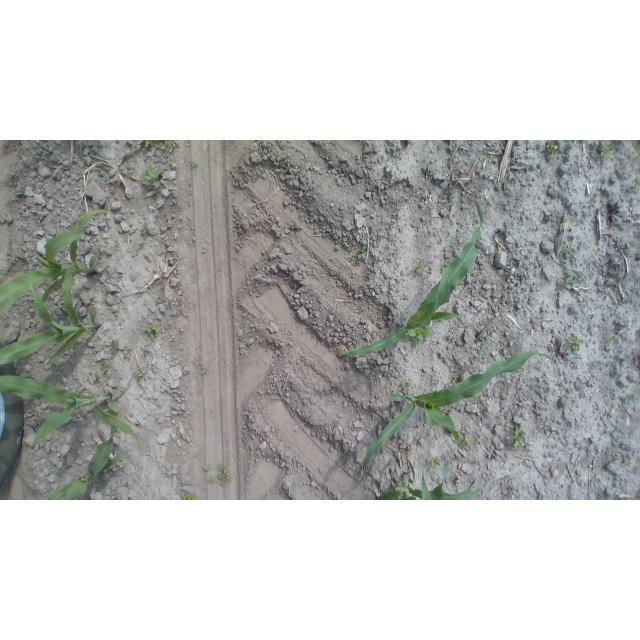Maize: (361, 351, 554, 477), (336, 198, 487, 359), (1, 374, 144, 452), (1, 209, 110, 310), (0, 263, 102, 367), (44, 424, 128, 501), (376, 459, 488, 500)
Weeds: (204, 462, 232, 488), (143, 162, 165, 189), (505, 424, 526, 450), (408, 328, 435, 347), (137, 140, 181, 150), (561, 272, 583, 291), (546, 141, 566, 160), (600, 141, 616, 164), (568, 334, 584, 357), (144, 322, 161, 342), (351, 248, 369, 266), (458, 433, 473, 451), (428, 456, 441, 471), (180, 492, 201, 501), (135, 238, 149, 251), (99, 362, 113, 375), (415, 262, 427, 277), (400, 377, 412, 390), (124, 346, 135, 359), (140, 222, 149, 237), (608, 334, 620, 344), (135, 369, 147, 378), (624, 396, 637, 404), (632, 146, 640, 159), (479, 345, 489, 355), (280, 152, 288, 164), (69, 220, 79, 229), (592, 247, 601, 257), (622, 460, 631, 469), (565, 244, 574, 253), (633, 180, 640, 191), (93, 373, 102, 381), (492, 452, 500, 460), (201, 245, 208, 254), (27, 447, 37, 453), (346, 239, 353, 247), (472, 189, 480, 196), (200, 368, 208, 375), (451, 373, 459, 379), (490, 444, 495, 453), (437, 142, 444, 148), (444, 260, 452, 265), (592, 192, 600, 197), (168, 304, 175, 309), (156, 297, 161, 304), (192, 163, 197, 169), (33, 320, 40, 324), (474, 200, 479, 205), (364, 154, 369, 159), (127, 170, 133, 173), (80, 446, 84, 450), (520, 169, 525, 172), (48, 349, 51, 352)
